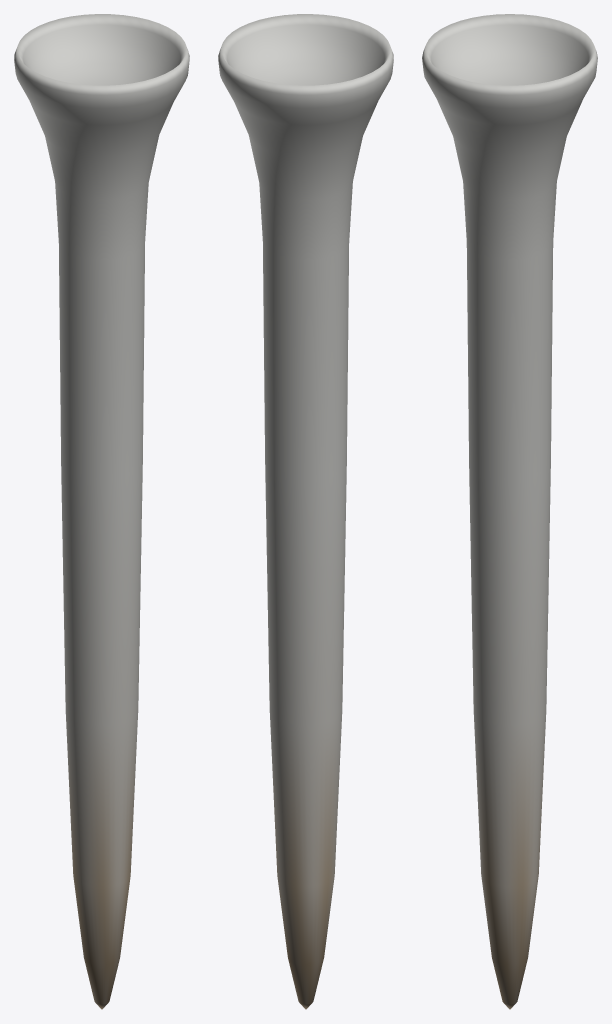
The model's file is tee.glb.
3 views of the same model, side by side, from view 1: azimuth 30°, elevation 25°; view 2: azimuth 150°, elevation 25°; view 3: azimuth 270°, elevation 25° (orthographic).
Parts seen in each view (by area): view 1: tee; view 2: tee; view 3: tee.
Part boxes in pixels (<box>): tee: <box>14,14,189,1009</box>; tee: <box>218,14,393,1009</box>; tee: <box>422,14,597,1009</box>.
Bounding box in the file's own units: 0.0116 × 0.0698 × 0.0116.
